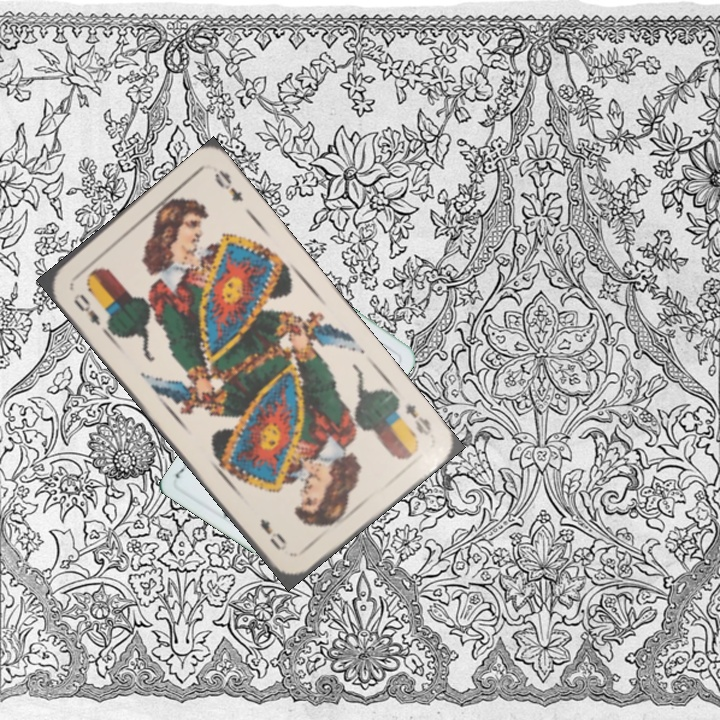EO: (69, 289, 104, 329), (401, 400, 434, 438)
